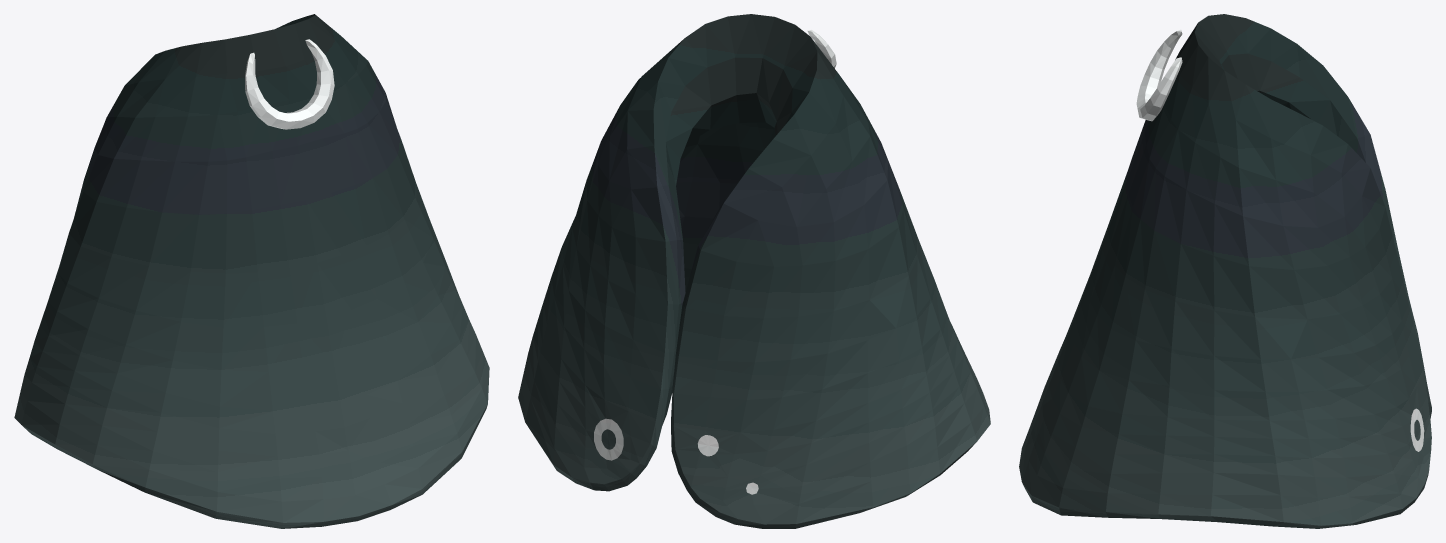
The model's file is CharSkyKid_Wing_Flow.glb.
3 renders of one model, left to right at view 1: azimuth 30°, elevation 25°; view 2: azimuth 150°, elevation 25°; view 3: azimuth 270°, elevation 25°, orthographic. The views are drawn at different scales.
Visible parts, largest first — view 1: CharSkyKid_Wing_Flow; view 2: CharSkyKid_Wing_Flow; view 3: CharSkyKid_Wing_Flow.
Boxes of the visible parts, x1,y1,x2,y2 form: CharSkyKid_Wing_Flow: [14, 14, 489, 528]; CharSkyKid_Wing_Flow: [518, 14, 990, 528]; CharSkyKid_Wing_Flow: [1019, 14, 1431, 528].
Bounding box in the file's own units: 6.11 × 5.96 × 5.06.
1 material, 1 textured.
